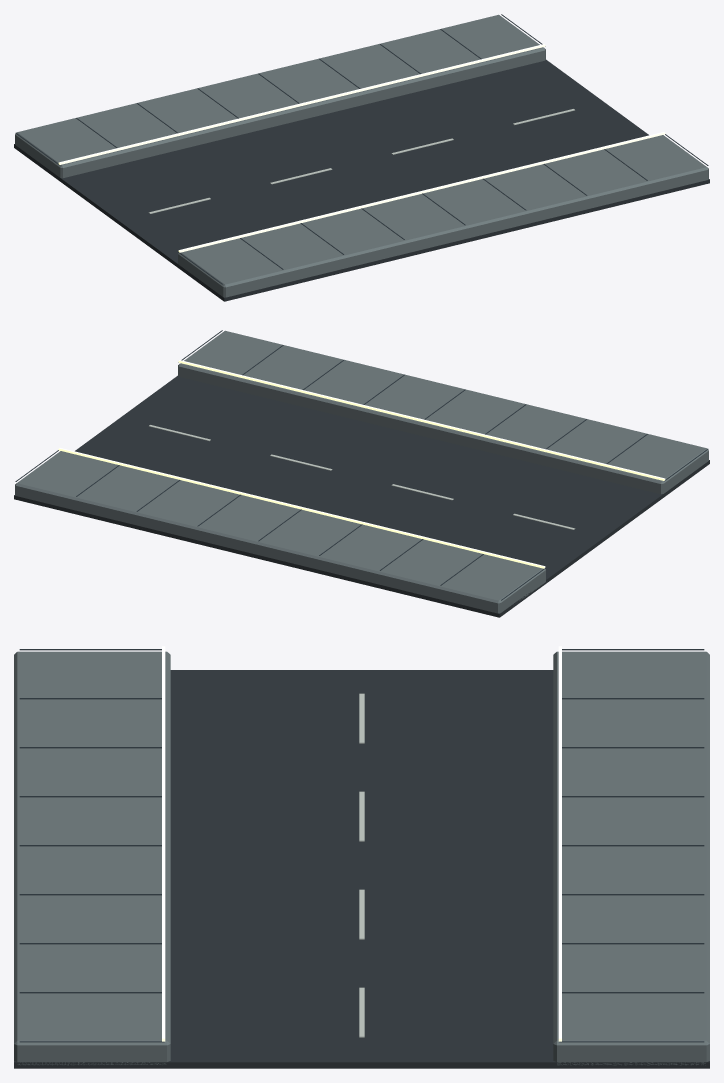
The model's file is street-tile.lod0.glb.
The picture shows the model from 3 angles, top to bottom: view 1: azimuth 30°, elevation 25°; view 2: azimuth 150°, elevation 25°; view 3: azimuth 270°, elevation 25°; orthographic projection. The views are drawn at different scales.
Visible parts, largest first — view 1: structure; view 2: structure; view 3: structure.
Boxes of the visible parts, x1,y1,x2,y2 form: structure: (14, 14, 709, 301); structure: (14, 330, 709, 617); structure: (14, 646, 709, 1068).
Bounding box in the file's own units: 16.03 × 0.57 × 12.
